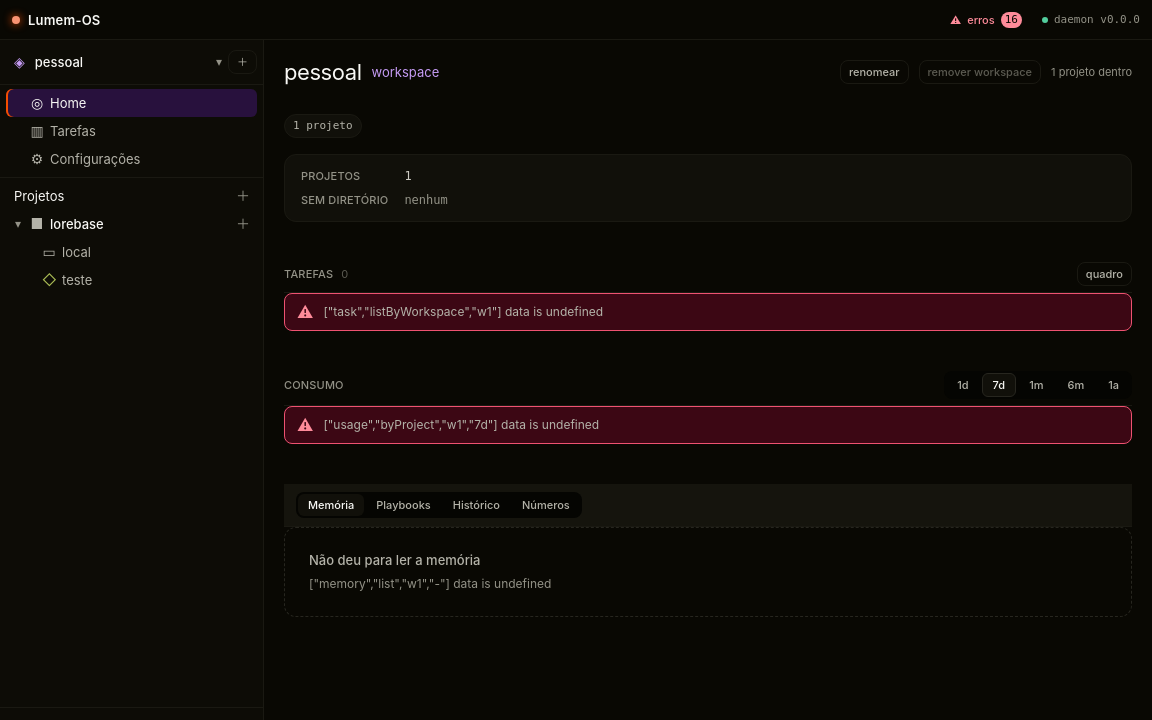
Test: o interruptor da coluna de arquivos › continua alcançável com a coluna fechada, que é o único jeito de reabrir
The width and height of the screenshot is (1152, 720).
Click the button "■ lorebase".
click(128, 224)  # box [26, 210, 231, 238]
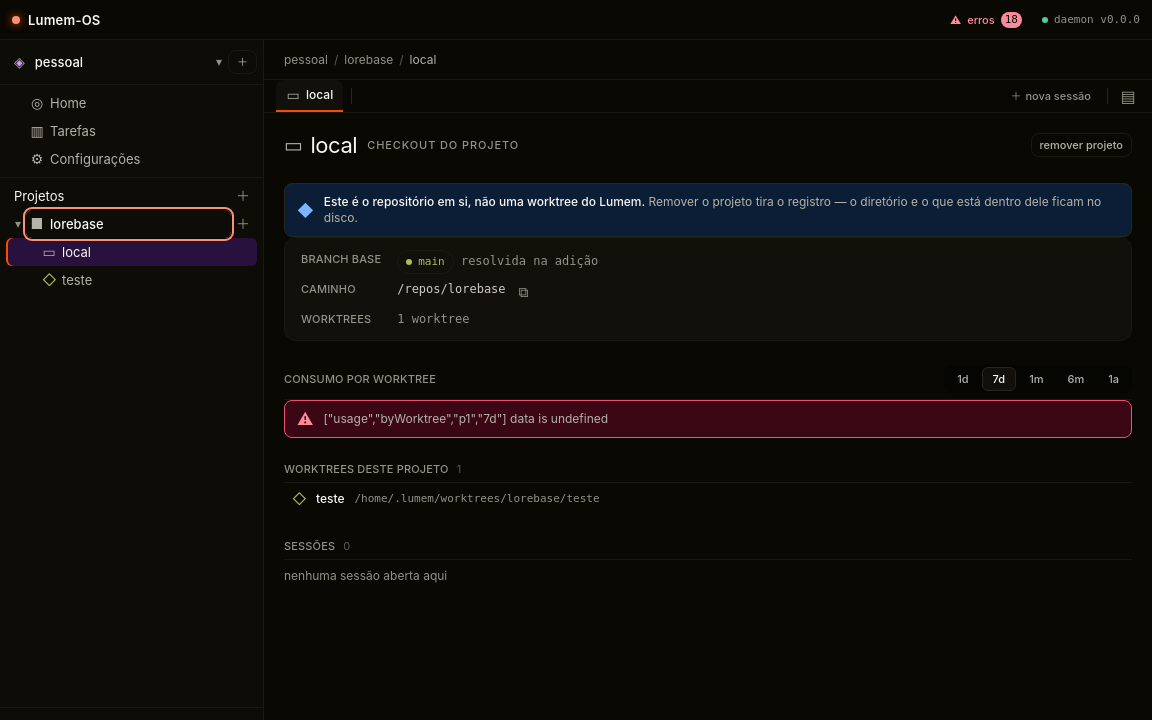
Click the button "◇ teste".
click(148, 280)  # box [38, 266, 257, 294]
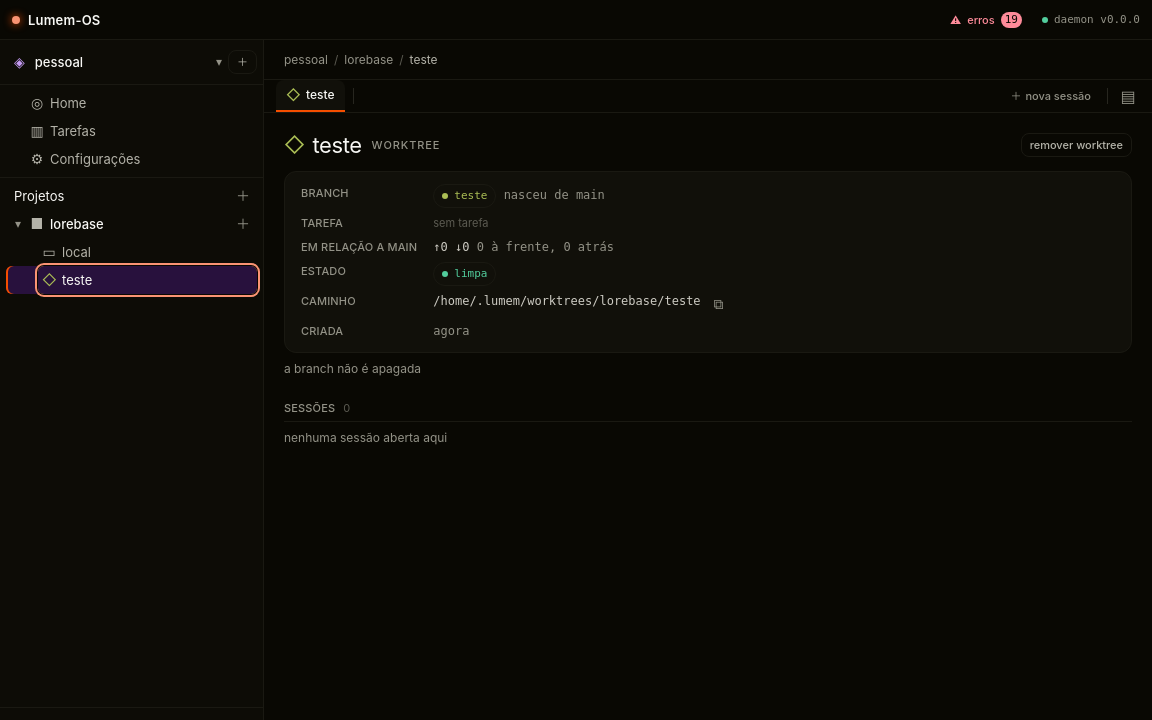
Click the button named "abrir a coluna de arquivos".
click(1128, 96)  # box [1116, 84, 1140, 108]
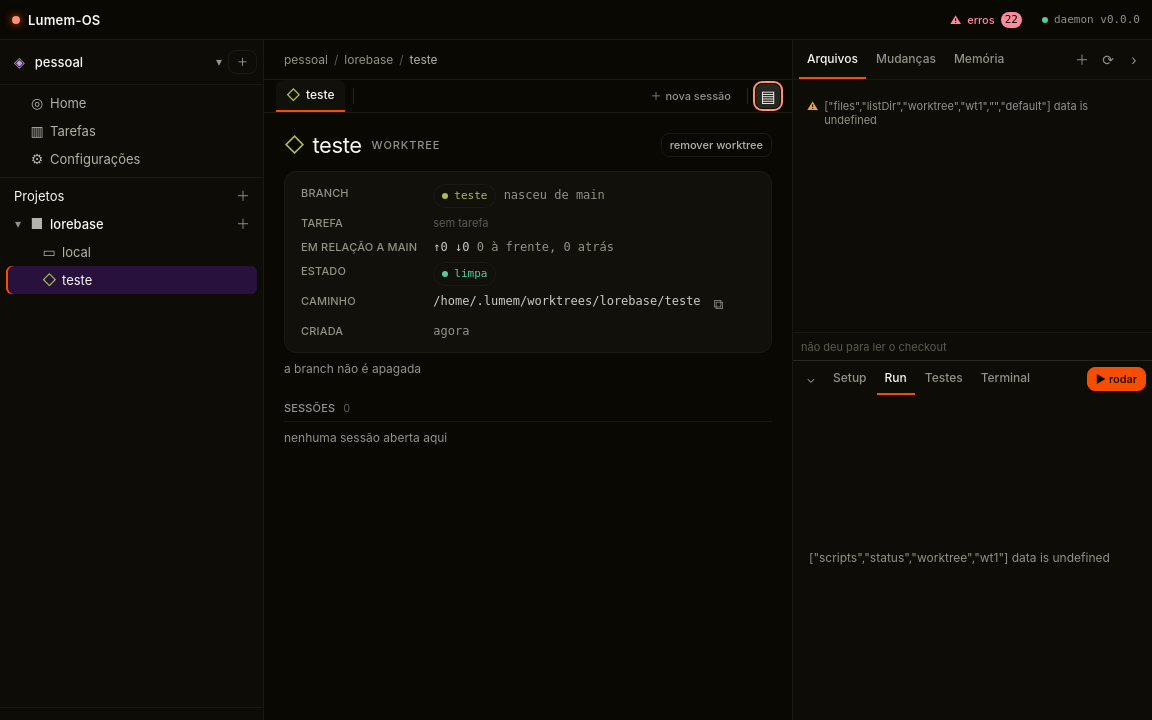
Now the element named "arquivos do checkout" is shown, box [792, 40, 1151, 719]
Click the button named "fechar a coluna de arquivos".
click(768, 96)  # box [756, 84, 780, 108]
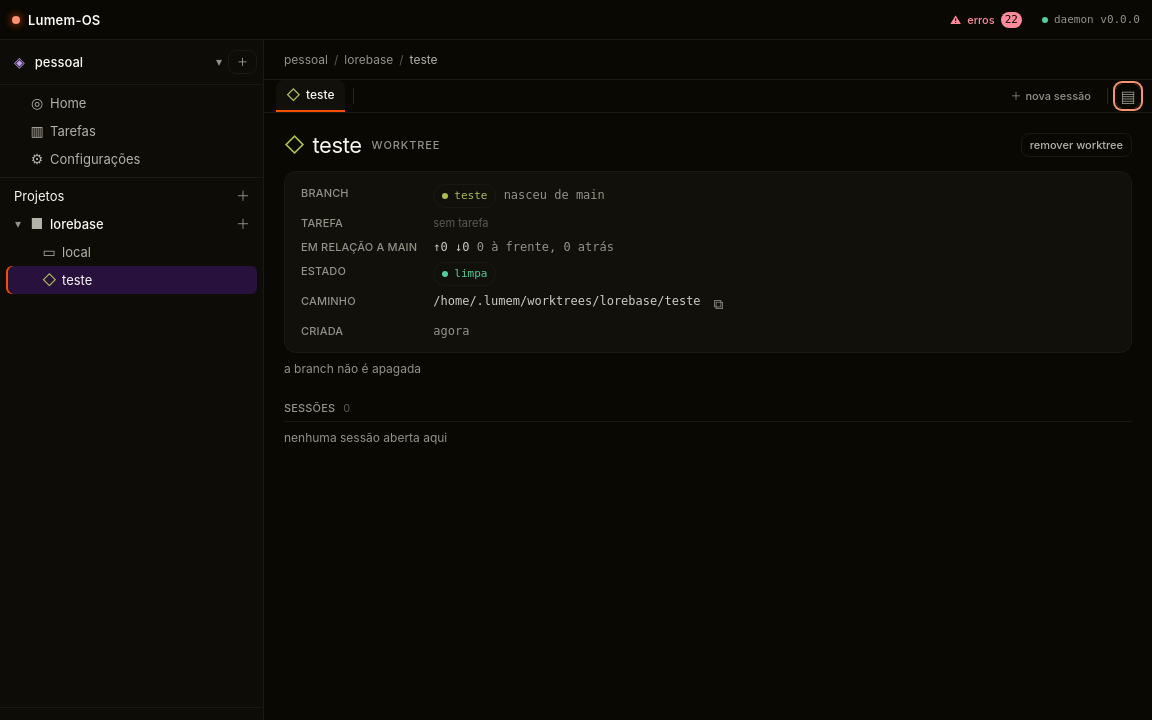
Now the button named "abrir a coluna de arquivos" is shown, box [1116, 84, 1140, 108]
